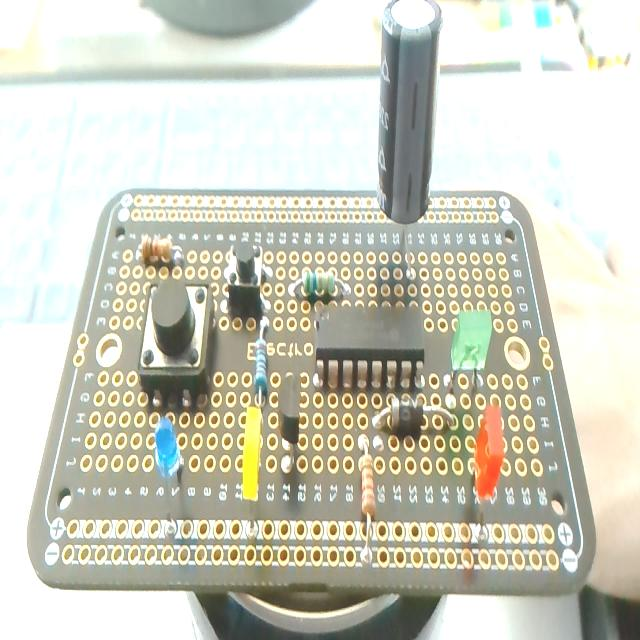Electrolytic capacitor: (367, 1, 443, 350)
IC: (316, 298, 428, 386)
diode: (371, 396, 453, 436)
led: (467, 404, 501, 560), (243, 328, 269, 502), (450, 308, 492, 378), (150, 417, 182, 483)
resistor: (358, 434, 377, 560), (290, 267, 349, 304), (140, 234, 182, 268), (253, 320, 269, 402)
switch: (134, 273, 214, 410), (224, 242, 268, 318)
transistor: (278, 372, 304, 480)
